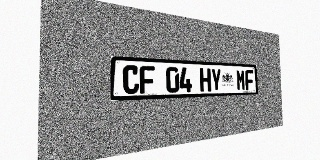0: (166, 67, 179, 93)
4: (179, 67, 192, 92)
C: (123, 65, 139, 94)
F: (140, 66, 155, 94), (245, 70, 254, 90)
H: (200, 68, 211, 92)
M: (236, 69, 245, 91)
Y: (211, 68, 221, 91)
